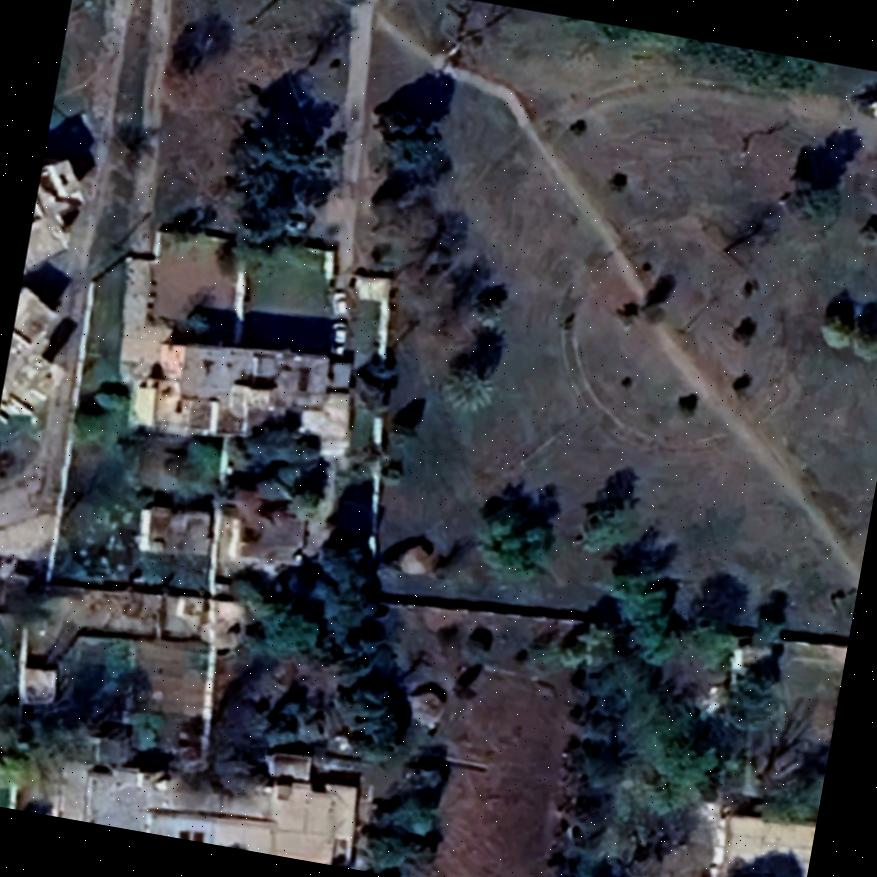Solarpanel: (175, 824, 208, 842)
